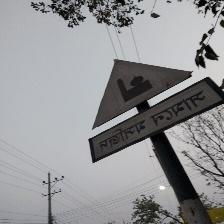Mosque in front: (87, 56, 224, 162)
